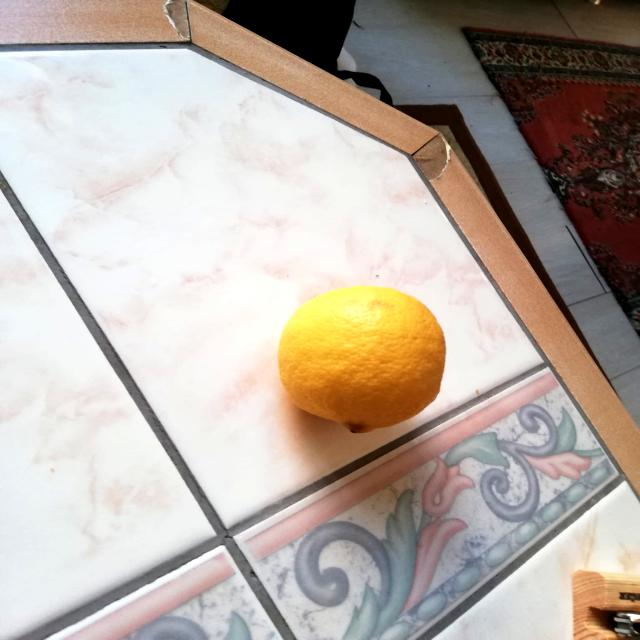lemon: (268, 266, 457, 444)
